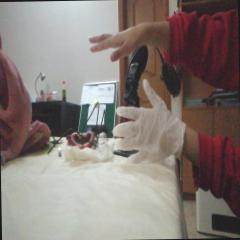gloved: (113, 79, 183, 168)
not-gloved: (88, 22, 163, 61)
